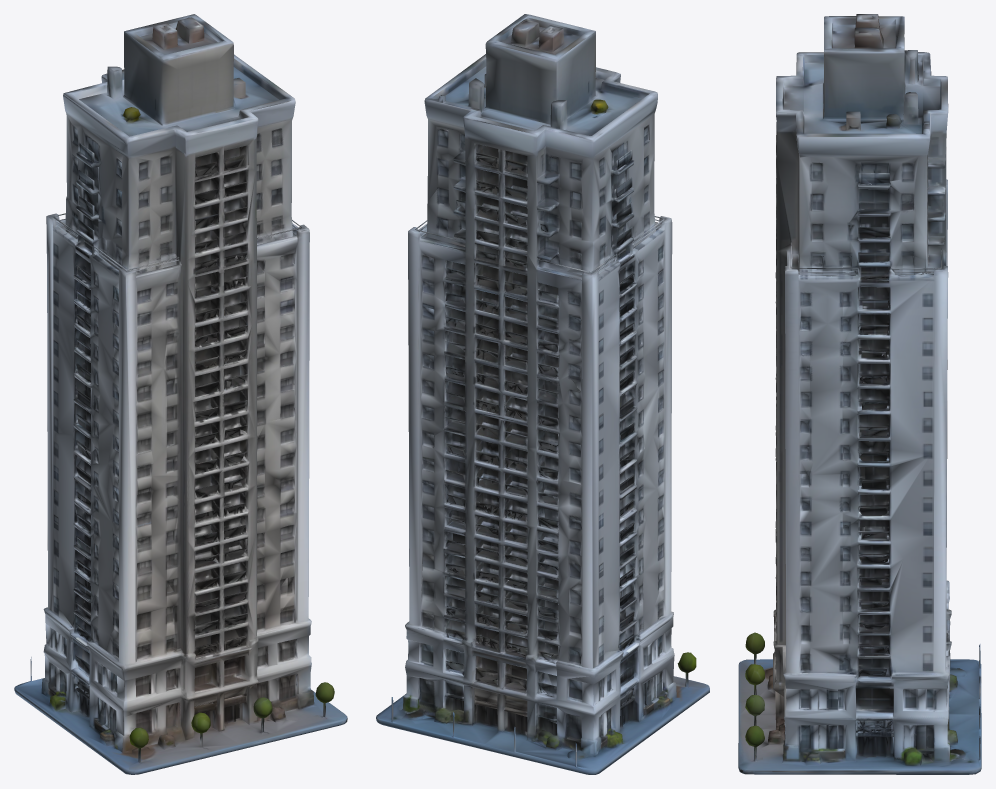
Rendered from asset-model-bldng-opt-7d9267fb-2c25-48dc-85c9-ee6a4be6056d.glb.
3 views of the same model, side by side, from view 1: azimuth 30°, elevation 25°; view 2: azimuth 150°, elevation 25°; view 3: azimuth 270°, elevation 25° (orthographic). The views are drawn at different scales.
Visible parts, largest first — view 1: node_0; view 2: node_0; view 3: node_0.
Part boxes in pixels (x1,y1,x2,y2): node_0: [14, 14, 347, 774]; node_0: [376, 14, 709, 774]; node_0: [738, 14, 981, 774].
Bounding box in the file's own units: 0.375 × 1.09 × 0.3461.
1 material, 1 textured.
